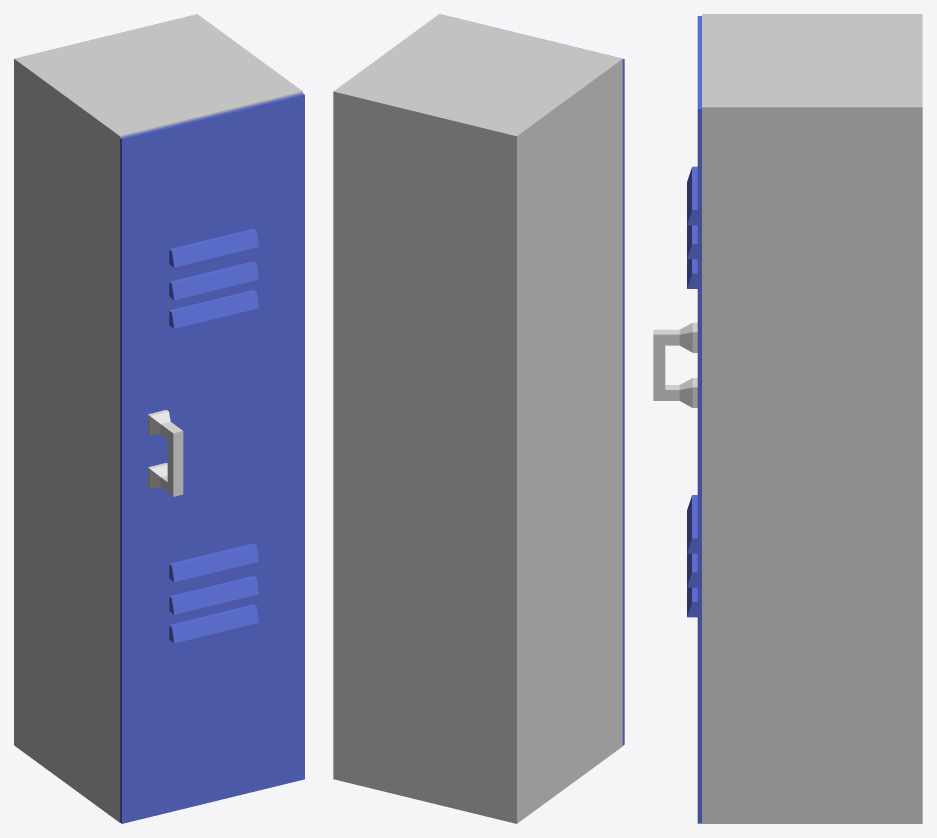
Rendered from Locker.fbx.
3 views of the same model, side by side, from view 1: azimuth 30°, elevation 25°; view 2: azimuth 150°, elevation 25°; view 3: azimuth 270°, elevation 25° (orthographic). The views are drawn at different scales.
Visible parts, largest first — view 1: Door_cell.002, Door_cell, Body, Body_cell.001, Body_cell.002, Body_cell, Door_cell.006, Door; view 2: Body, Body_cell.001, Body_cell.002, Body_cell, Door, Door_cell.002, Door_cell; view 3: Body, Body_cell.001, Door, Door_cell, Door_cell.002, Body_cell, Door_cell.006.
Boxes of the visible parts, box(x1,y1,x2,y2) form: Door_cell.002: box(120, 95, 304, 456); Door_cell: box(120, 491, 304, 823); Body: box(14, 61, 119, 822); Body_cell.001: box(14, 14, 302, 316); Body_cell.002: box(14, 238, 119, 632); Body_cell: box(14, 581, 119, 822); Door_cell.006: box(120, 409, 304, 547); Door: box(120, 93, 304, 823); Body: box(333, 66, 622, 823); Body_cell.001: box(333, 14, 622, 313); Body_cell.002: box(517, 240, 622, 658); Body_cell: box(517, 586, 622, 823); Door: box(441, 14, 624, 745); Door_cell.002: box(622, 59, 624, 377); Door_cell: box(622, 468, 624, 744); Body: box(702, 103, 922, 823); Body_cell.001: box(702, 14, 922, 296); Door: box(653, 16, 701, 823); Door_cell: box(687, 495, 701, 820); Door_cell.002: box(687, 109, 701, 440); Body_cell: box(882, 652, 922, 766); Door_cell.006: box(653, 322, 700, 455).
Size of the model in its own units: 697 by 2497 by 851.
